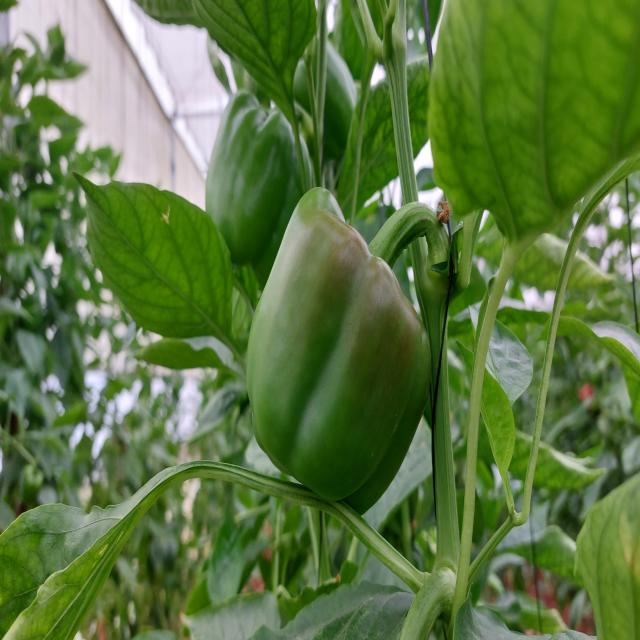Green--Not-ready-to-harvest: (247, 187, 432, 517), (207, 91, 312, 276)
